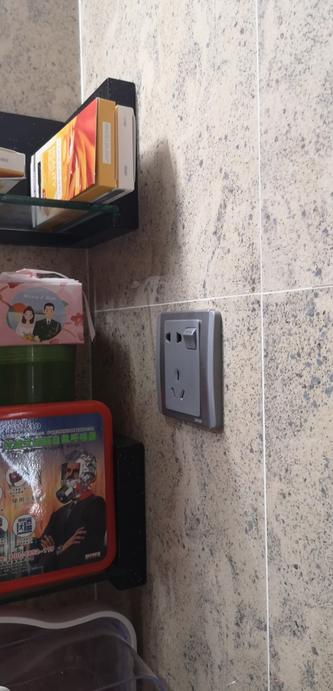switch: (185, 327, 199, 348)
